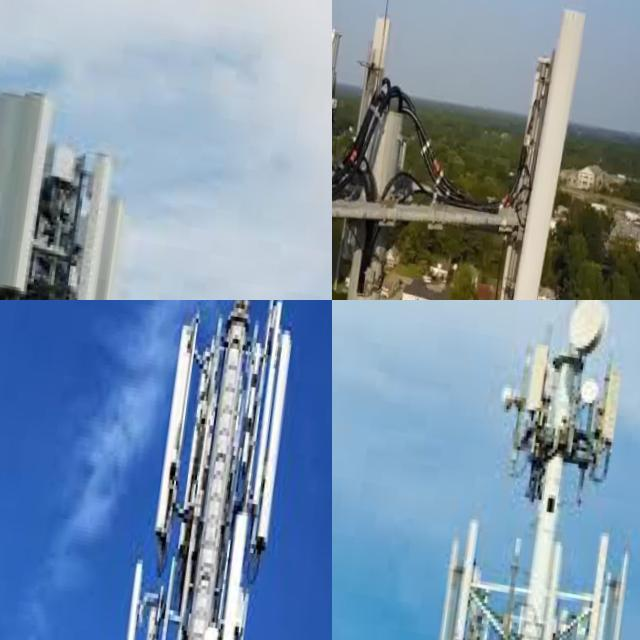GSM Antenna: (498, 0, 586, 300), (491, 39, 554, 300), (0, 59, 60, 300), (148, 306, 202, 549), (50, 137, 127, 300), (253, 312, 299, 542), (204, 496, 257, 640), (449, 506, 489, 640), (430, 512, 470, 640), (106, 548, 152, 640), (533, 532, 571, 640), (604, 534, 640, 640), (581, 526, 610, 640), (593, 357, 625, 443), (524, 331, 551, 407)
Microwave Antenna: (562, 300, 614, 359), (492, 375, 520, 416), (580, 371, 600, 407)
